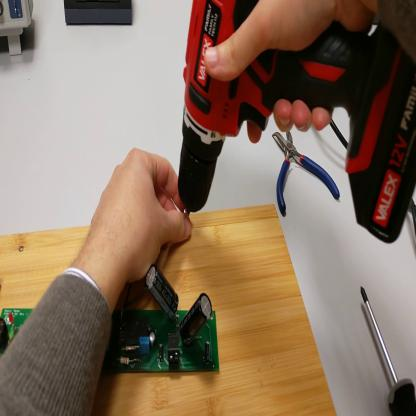electric screwdriver: (179, 1, 416, 246)
hand: (201, 3, 380, 130), (89, 149, 194, 288)
high voltage board: (2, 263, 220, 380)
oscilloscope: (2, 2, 37, 56)
pliers: (273, 131, 341, 218)
screwdriver-: (357, 277, 416, 416)
working area: (1, 207, 338, 416)
